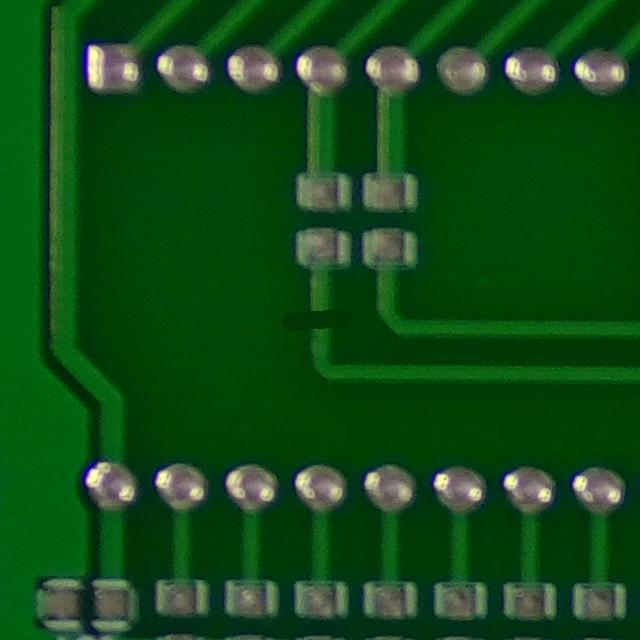open_circuit: (289, 302, 352, 338)
